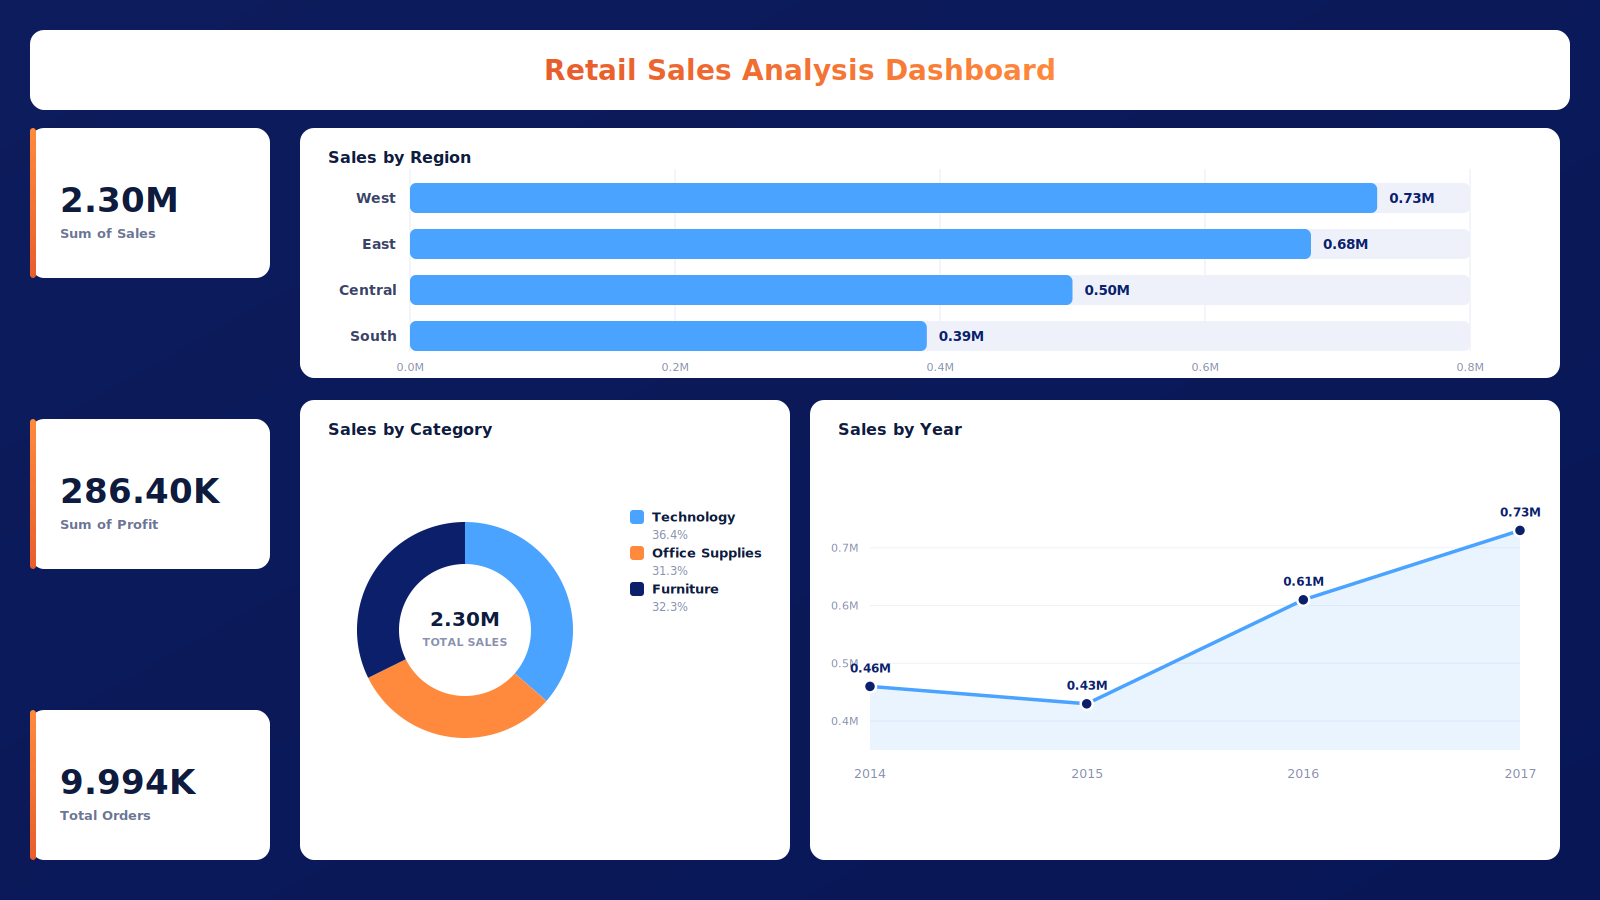

Layout of this report page (visuals, bound fields, positions):
{"tool":"powerbi","page":{"name":"Page 1","canvas":[1280,720],"ordinal":0},"visuals":[{"type":"cardVisual","fields":{"Data":["Sum(Sample - Superstore.Sales)"]},"box":[9.9,109.1,280.6,171.5],"z":0},{"type":"cardVisual","fields":{"Data":["Sum(Sample - Superstore.Profit)"]},"box":[9.9,290.6,280.6,225.4],"z":1000},{"type":"cardVisual","fields":{"Data":["CountNonNull(Sample - Superstore.Order ID)"]},"box":[9.9,530.1,280.6,177.2],"z":2000},{"type":"clusteredBarChart","title":" Sales by Region","fields":{"Category":["Sample - Superstore.Region"],"Y":["Sum(Sample - Superstore.Sales)"]},"box":[300.5,120.5,958.1,265],"z":3000},{"type":"lineChart","title":"Sales by Year","fields":{"Category":["Sample - Superstore.Order Date.Variation.Date Hierarchy.Year","Sample - Superstore.Order Date.Variation.Date Hierarchy.Month"],"Y":["Sum(Sample - Superstore.Sales)"]},"box":[824.9,415.3,433.7,279.2],"z":4000},{"type":"pieChart","title":"Sales by Category","fields":{"Category":["Sample - Superstore.Category"],"Y":["Sum(Sample - Superstore.Sales)"]},"box":[300.5,415.3,508.8,279.2],"z":5000},{"type":"textbox","box":[9.9,11.3,1258.6,83.6],"z":9000}]}

Visuals, with their boxes in screenshot pixels (x1, y1, x2, y2), scaled from the page's 1280x720 canvas onto the 1600x900 screenshot:
cardVisual - Sum(Sample - Superstore.Sales): [12,136,363,351]
cardVisual - Sum(Sample - Superstore.Profit): [12,363,363,645]
cardVisual - CountNonNull(Sample - Superstore.Order ID): [12,663,363,884]
" Sales by Region" clusteredBarChart: [376,151,1573,482]
"Sales by Year" lineChart: [1031,519,1573,868]
"Sales by Category" pieChart: [376,519,1012,868]
textbox: [12,14,1586,119]
